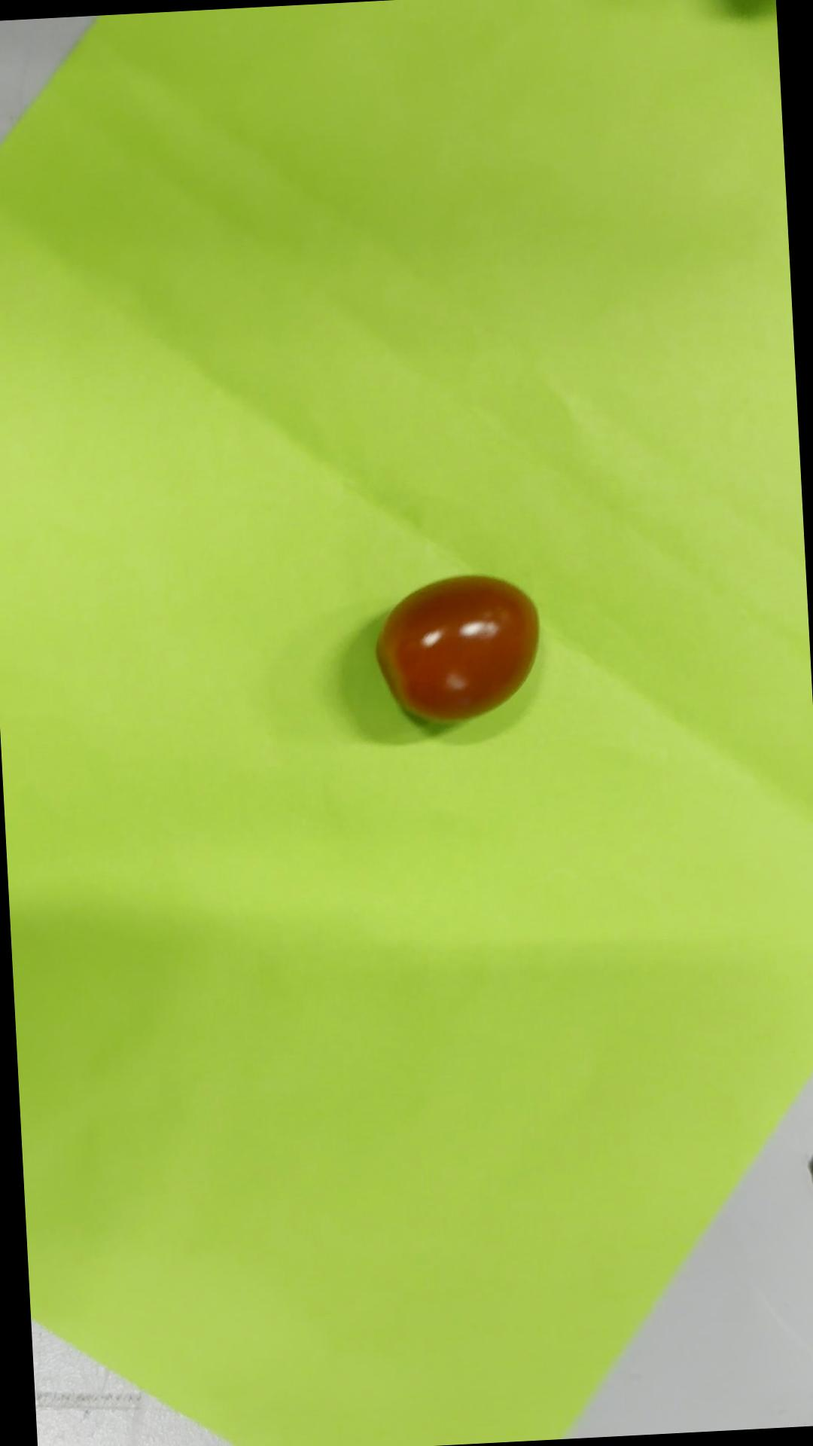red_cherry_tomato: (375, 575, 538, 723)
